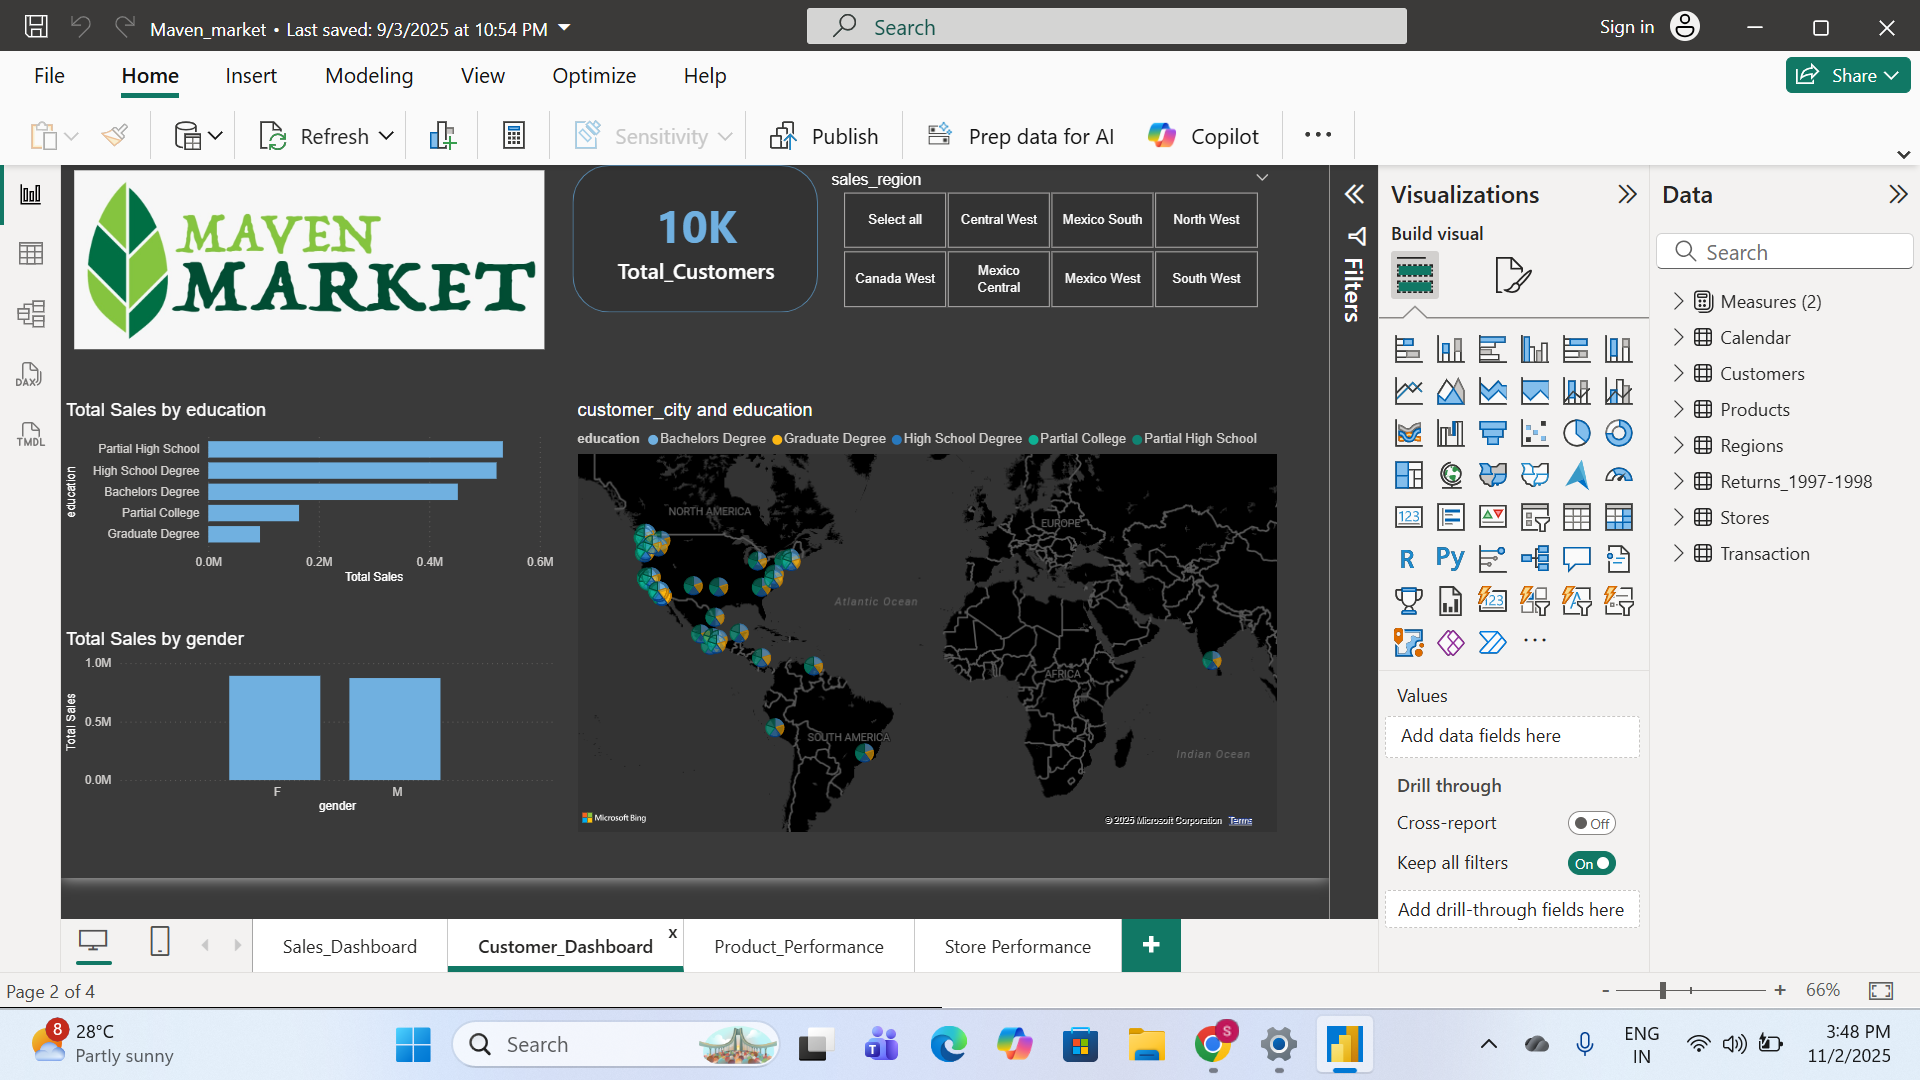

The dashboard page shown, as its layout file describes it:
{"tool":"powerbi","page":{"name":"Customer_Dashboard","canvas":[1280,720],"ordinal":1},"visuals":[{"type":"image","box":[0,0,501.9,191.2],"z":0},{"type":"shape","box":[516.5,0,247.7,149],"z":1000},{"type":"card","fields":{"Values":["Measures (2).Total_Customers"]},"box":[529.5,17.8,221.8,111.7],"z":2000},{"type":"clusteredBarChart","fields":{"Y":["Measures (2).Total Sales"],"Category":["Customers.education"]},"box":[0,235.5,502,191],"z":3000},{"type":"clusteredColumnChart","fields":{"Category":["Customers.gender"],"Y":["Measures (2).Total Sales"]},"box":[0,468,502,191],"z":4000},{"type":"map","fields":{"Series":["Customers.education"],"Category":["Customers.customer_city"]},"box":[516.3,236.2,716.2,442.1],"z":5000},{"type":"slicer","fields":{"Values":["Regions.sales_region"]},"box":[765,0,467,150],"z":6000}]}

Visuals, with their boxes on the page's 1280x720 design canvas (x1, y1, x2, y2). These are canvas units, not pixel positions in the 1920x1080 screenshot, which may show the page scaled, cropped or inside an application window:
image: 0,0,502,191
shape: 516,0,764,149
card - Measures (2).Total_Customers: 530,18,751,130
clusteredBarChart - Measures (2).Total Sales x Customers.education: 0,236,502,426
clusteredColumnChart - Customers.gender x Measures (2).Total Sales: 0,468,502,659
map - Customers.education x Customers.customer_city: 516,236,1232,678
slicer - Regions.sales_region: 765,0,1232,150
